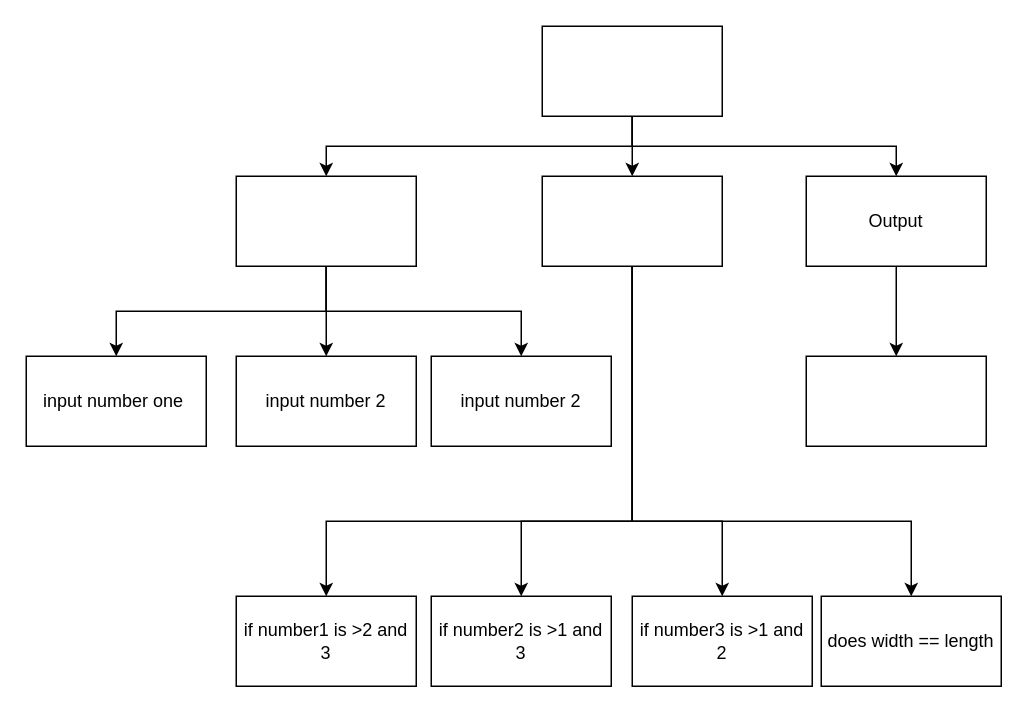
Image size: 1028x713. Some labels were removed from this diagram. The centre of each missing label's shape, as x and y in pixels:
Input: the point at 325,220
output answer: the point at 895,400
Process: the point at 631,220
the square finder: the point at 631,70
